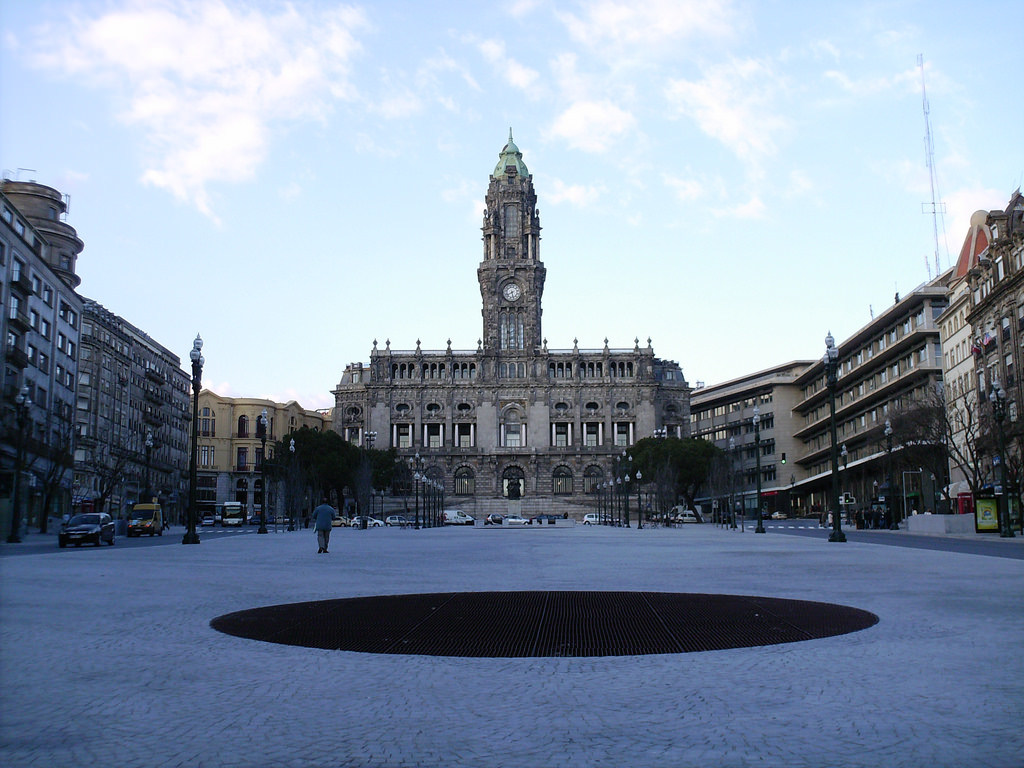camara: (330, 124, 694, 516)
